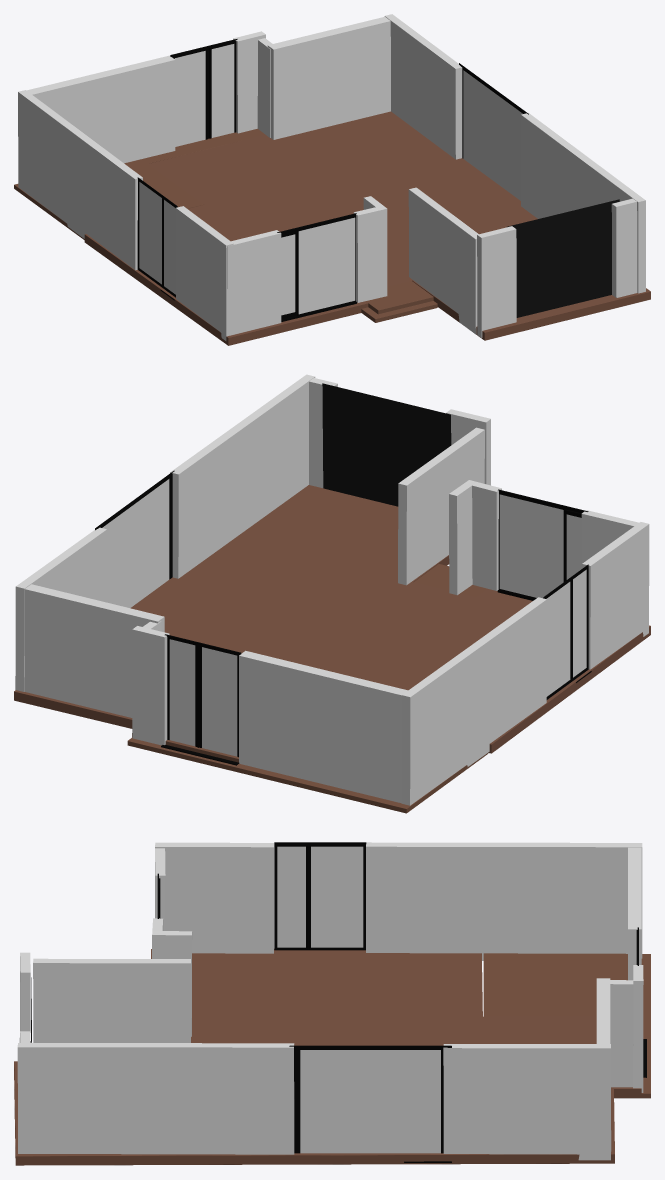
The model's file is PrimerPiso.fbx.
3 views of the same model, one above another, from view 1: azimuth 30°, elevation 25°; view 2: azimuth 150°, elevation 25°; view 3: azimuth 270°, elevation 25° (orthographic). The views are drawn at different scales.
Visible parts, largest first — view 1: 1 terreno piso, 1 pared 1, 1 pared 11, 1 pared 7, 1 pared 6, 1 puerta cochera, 1 ventana 2, 1 pared 5, 1 ventana 4, 1 ventana 1, 1 entradas, 1 pared 2 (+5 smaller); view 2: 1 terreno piso, 1 pared 1, 1 pared 6, 1 pared 11, 1 puerta cochera, 1 pared 7, 1 ventana 4, 1 ventana 2, 1 pared 5, 1 ventana 1, 1 ventana 3, 1 entradas (+4 smaller); view 3: 1 terreno piso, 1 pared 1, 1 pared 6, 1 pared 11, 1 ventana 1, 1 pared 5, 1 pared 7, 1 ventana 3, 1 entradas, 1 pared 4, 1 pared 3, 1 pared 10 (+1 smaller).
Boxes of the visible parts, box(x1,y1,x2,y2) form: 1 terreno piso: box(84, 111, 650, 345); 1 pared 1: box(18, 55, 175, 270); 1 pared 11: box(267, 14, 462, 159); 1 pared 7: box(176, 206, 281, 340); 1 pared 6: box(521, 113, 645, 297); 1 puerta cochera: box(507, 199, 619, 317); 1 ventana 2: box(277, 213, 356, 321); 1 pared 5: box(408, 187, 478, 334); 1 ventana 4: box(170, 39, 237, 146); 1 ventana 1: box(459, 63, 528, 200); 1 entradas: box(14, 128, 437, 322); 1 pared 2: box(477, 226, 516, 337); 1 terreno piso: box(14, 485, 650, 753); 1 pared 1: box(239, 597, 546, 805); 1 pared 6: box(170, 374, 337, 578); 1 pared 11: box(15, 527, 164, 717); 1 puerta cochera: box(322, 383, 451, 506); 1 pared 7: box(581, 510, 649, 669); 1 ventana 4: box(161, 634, 241, 765); 1 ventana 2: box(497, 489, 588, 600); 1 pared 5: box(398, 427, 484, 585); 1 ventana 1: box(95, 470, 174, 607); 1 ventana 3: box(543, 564, 591, 699); 1 entradas: box(127, 564, 488, 813); 1 terreno piso: box(14, 949, 614, 1165); 1 pared 1: box(366, 842, 642, 980); 1 pared 6: box(17, 1031, 294, 1154); 1 pared 11: box(443, 978, 611, 1160); 1 ventana 1: box(289, 1045, 451, 1162); 1 pared 5: box(33, 958, 190, 1042); 1 pared 7: box(155, 842, 273, 953); 1 ventana 3: box(274, 842, 366, 950); 1 entradas: box(483, 953, 650, 1098); 1 pared 4: box(610, 980, 633, 1087); 1 pared 3: box(633, 965, 643, 1092); 1 pared 10: box(152, 931, 192, 1036).
Size of the model in its own units: 8501 by 2310 by 10996.
